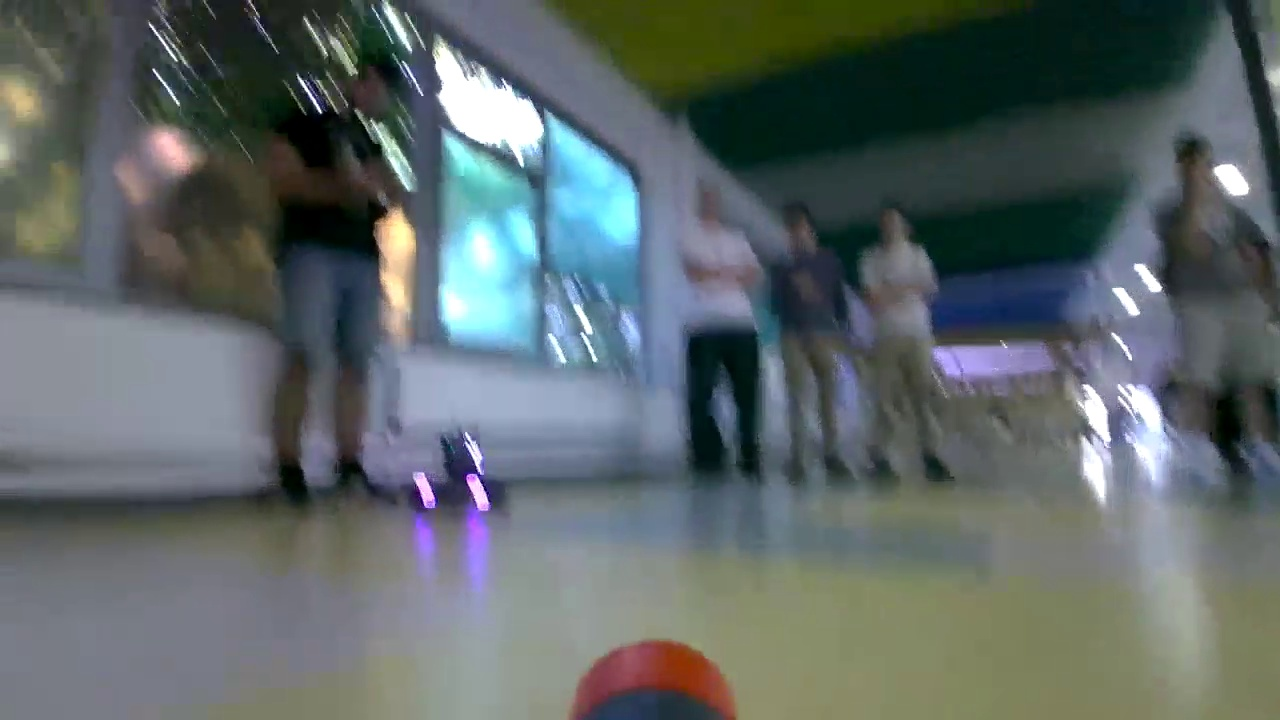robot: (404, 424, 509, 514)
